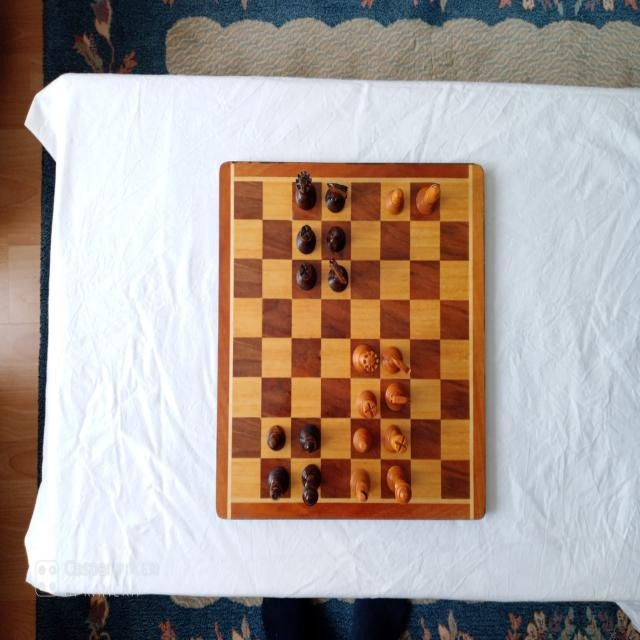black-bishop: (267, 466, 290, 502), (298, 423, 321, 453)
black-king: (300, 463, 323, 506)
black-knight: (324, 181, 348, 213), (327, 256, 348, 292)
black-pawn: (326, 226, 346, 252), (266, 425, 286, 451)
black-queen: (294, 169, 318, 210)
black-rook: (295, 224, 316, 254), (295, 261, 316, 291)
white-bishop: (415, 182, 440, 214), (350, 468, 372, 503)
white-king: (387, 464, 413, 504)
white-knight: (381, 346, 412, 376), (384, 382, 411, 410)
white-pawn: (353, 427, 373, 453), (387, 187, 405, 215)
white-queen: (352, 343, 379, 373)
white-rook: (383, 424, 408, 454), (357, 390, 378, 418)
